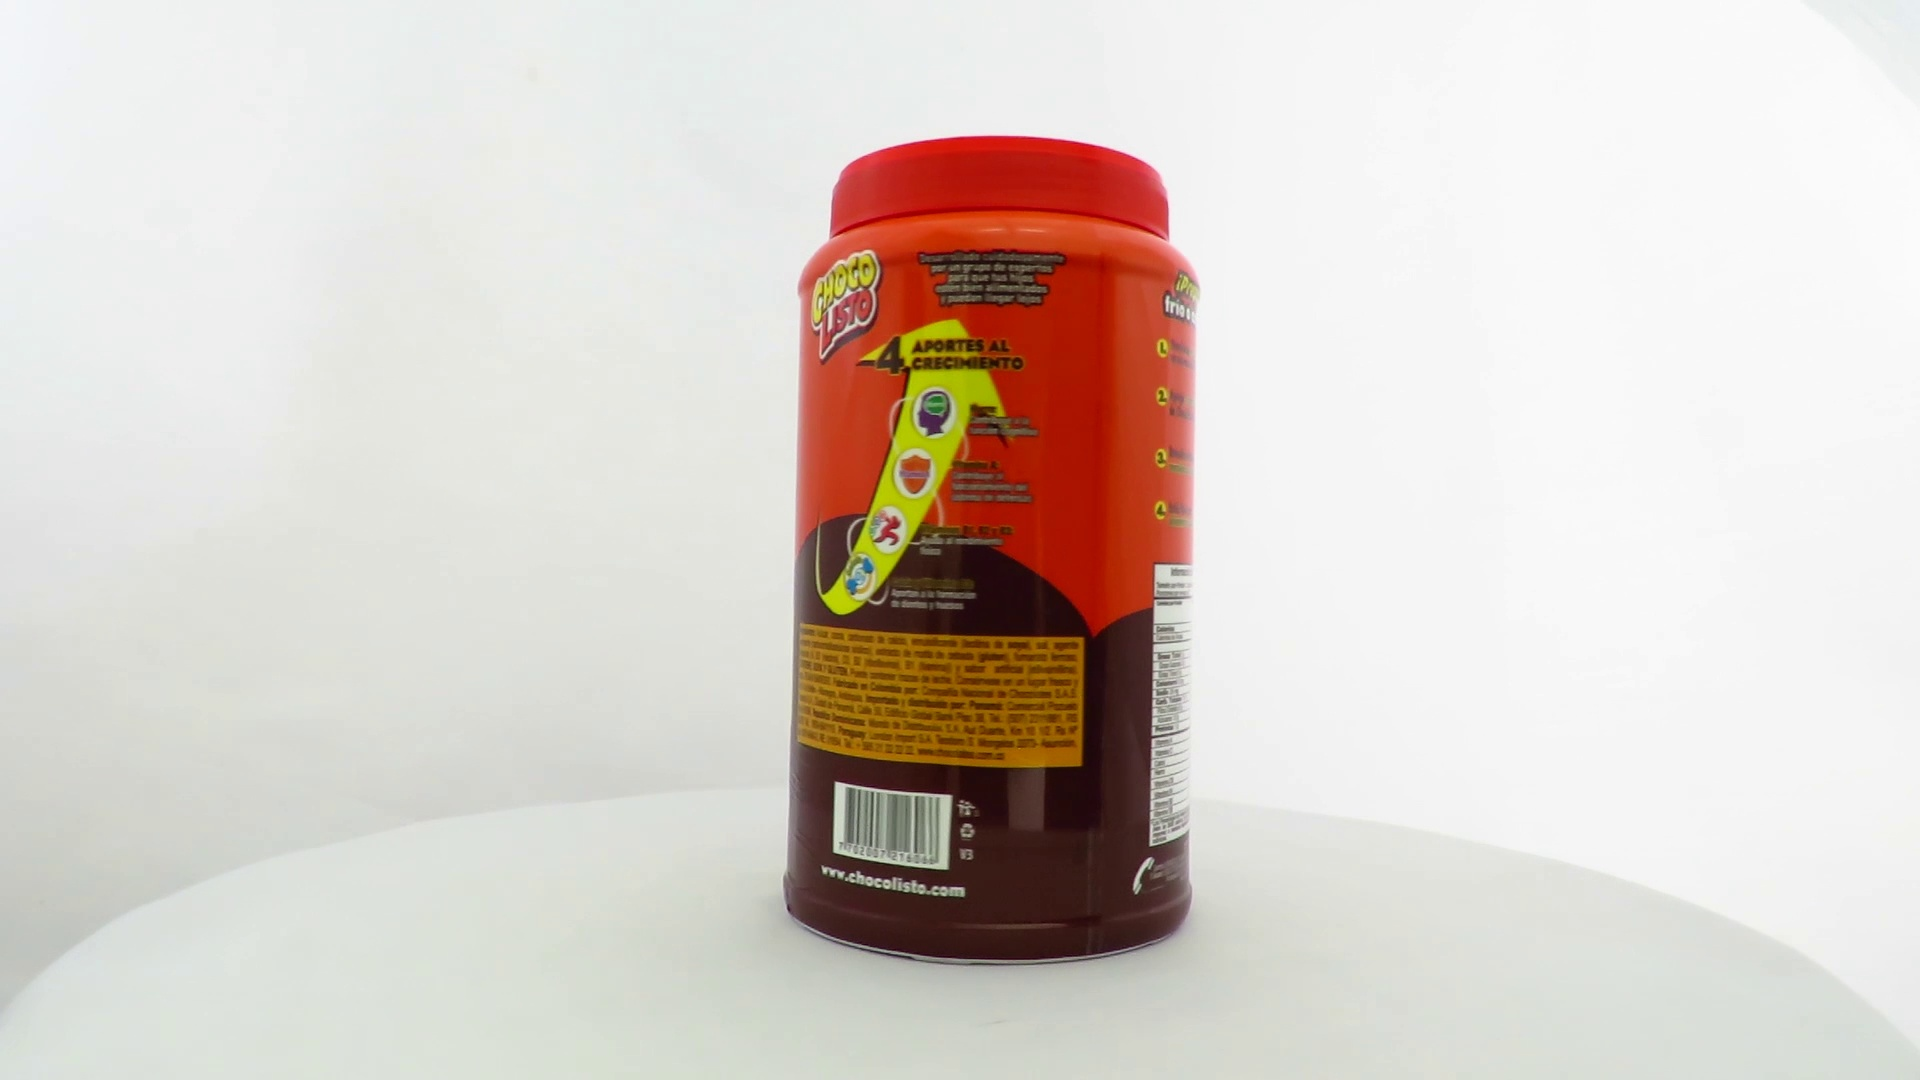COL0170103TRR00100: (778, 131, 1204, 972)
